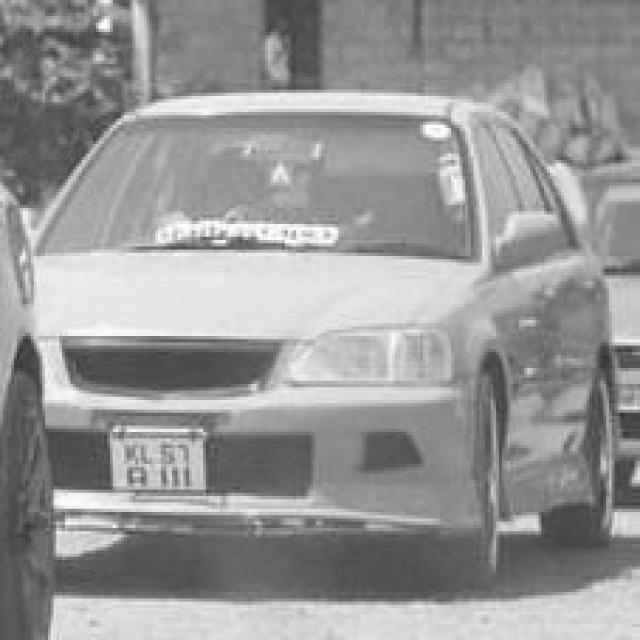car: (33, 83, 614, 573)
license-plate: (112, 426, 208, 502)
